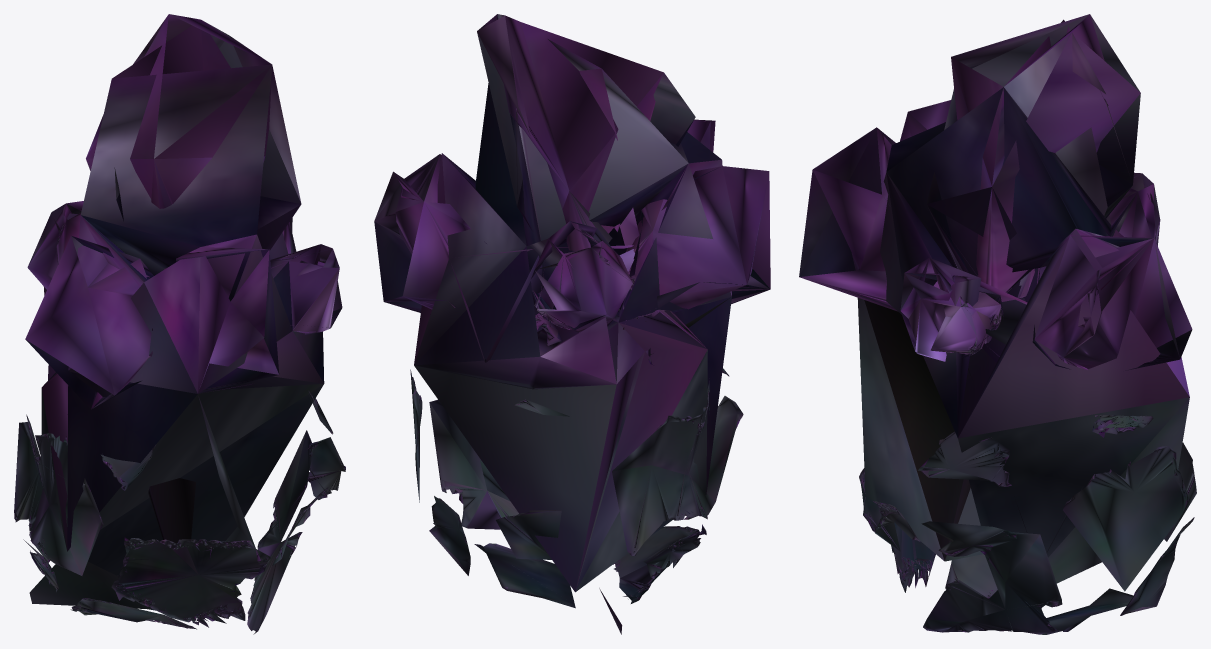
The model's file is cogu_esporo_vacuo.glb.
The picture shows the model from 3 angles, left to right: view 1: azimuth 30°, elevation 25°; view 2: azimuth 150°, elevation 25°; view 3: azimuth 270°, elevation 25°; orthographic projection. The views are drawn at different scales.
Parts seen in each view (by area): view 1: geometry_0; view 2: geometry_0; view 3: geometry_0.
Part boxes in pixels (x1,y1,x2,y2): geometry_0: [14, 14, 345, 634]; geometry_0: [374, 14, 770, 634]; geometry_0: [799, 14, 1196, 634].
Bounding box in the file's own units: 0.5836 × 1 × 0.5812.
1 material, 1 textured.
